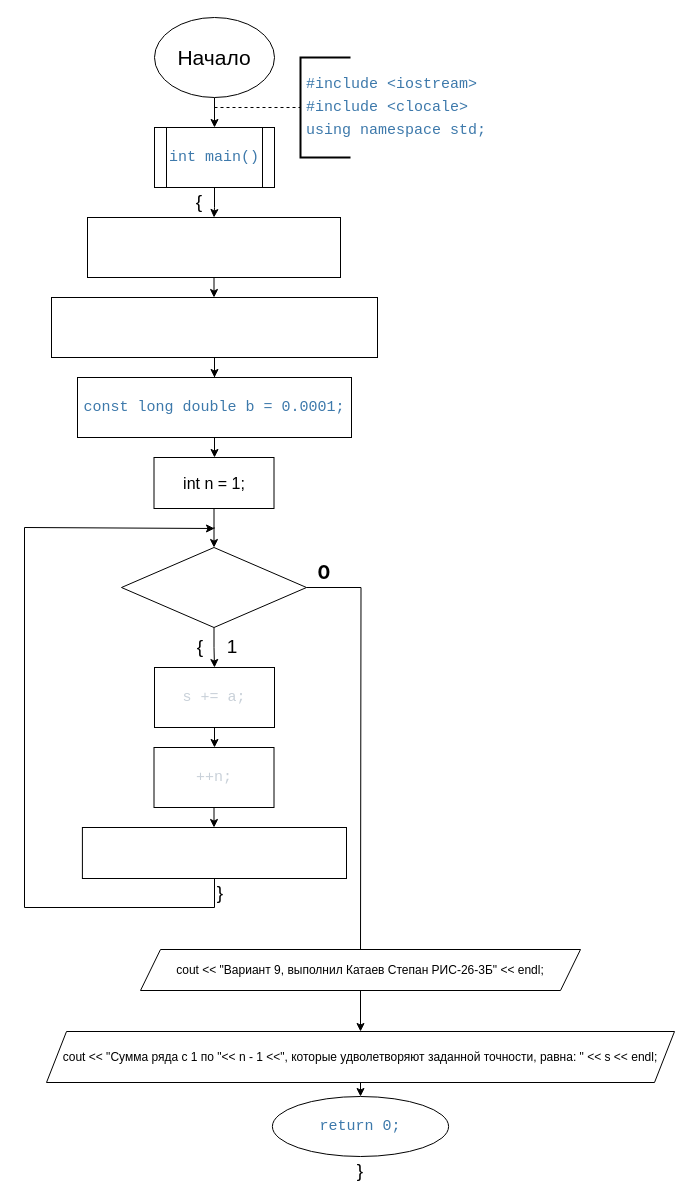
The diagram is 692 pixels wide and 1204 high, and some of its shapes have lost their labels. Here are the shapes that lost their labels. From the top down, the centre of each, then its label:
(x=213, y=247): setlocale(LC_ALL, ".65001");
(x=214, y=327): long double s = 0, a = 10, n = 1;
(x=213, y=587): while (a >= b)
(x=213, y=852): a = a * ((long double)10 / n);
